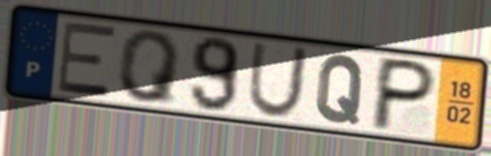9: (185, 34, 242, 116)
E: (55, 20, 118, 100)
P: (366, 53, 441, 133)
Q: (117, 28, 185, 107), (313, 52, 368, 127)
U: (244, 41, 312, 121)
